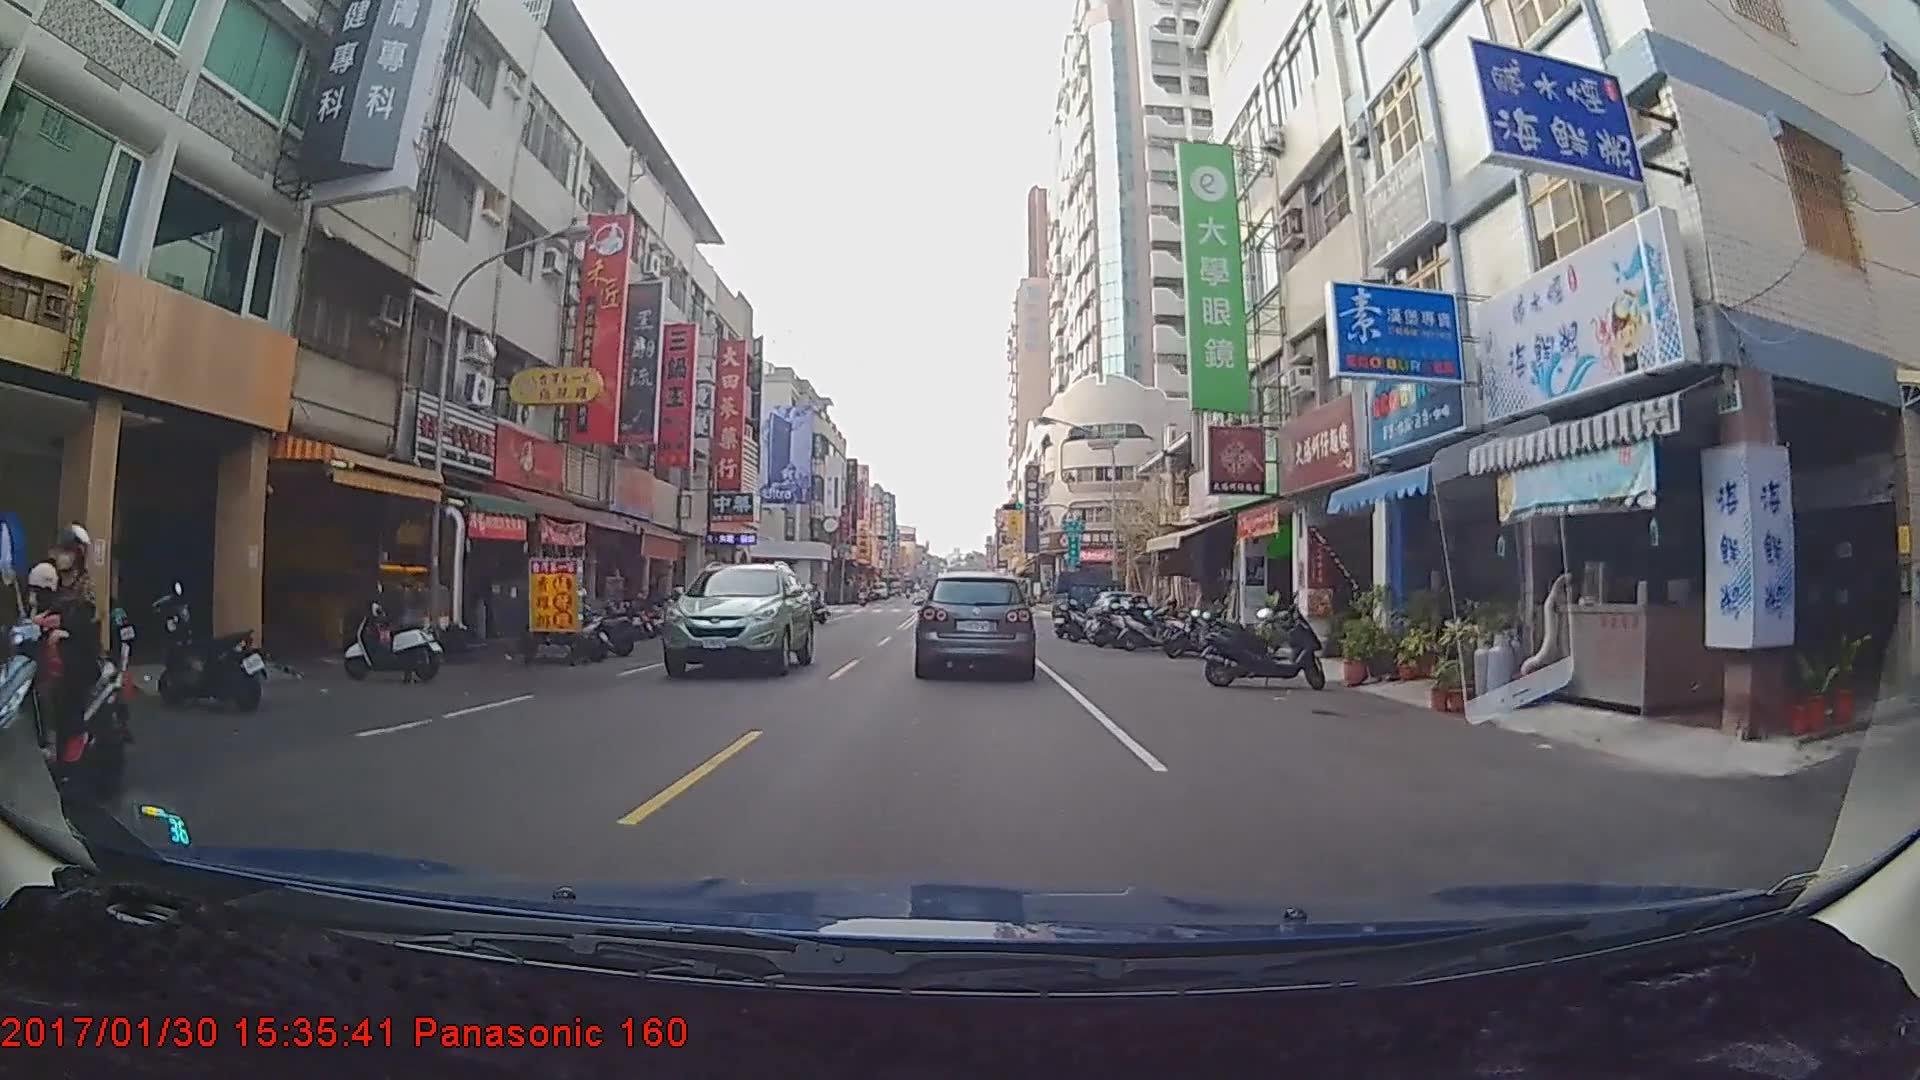vehicle: (658, 560, 814, 679), (916, 570, 1035, 678), (1054, 570, 1127, 634)
